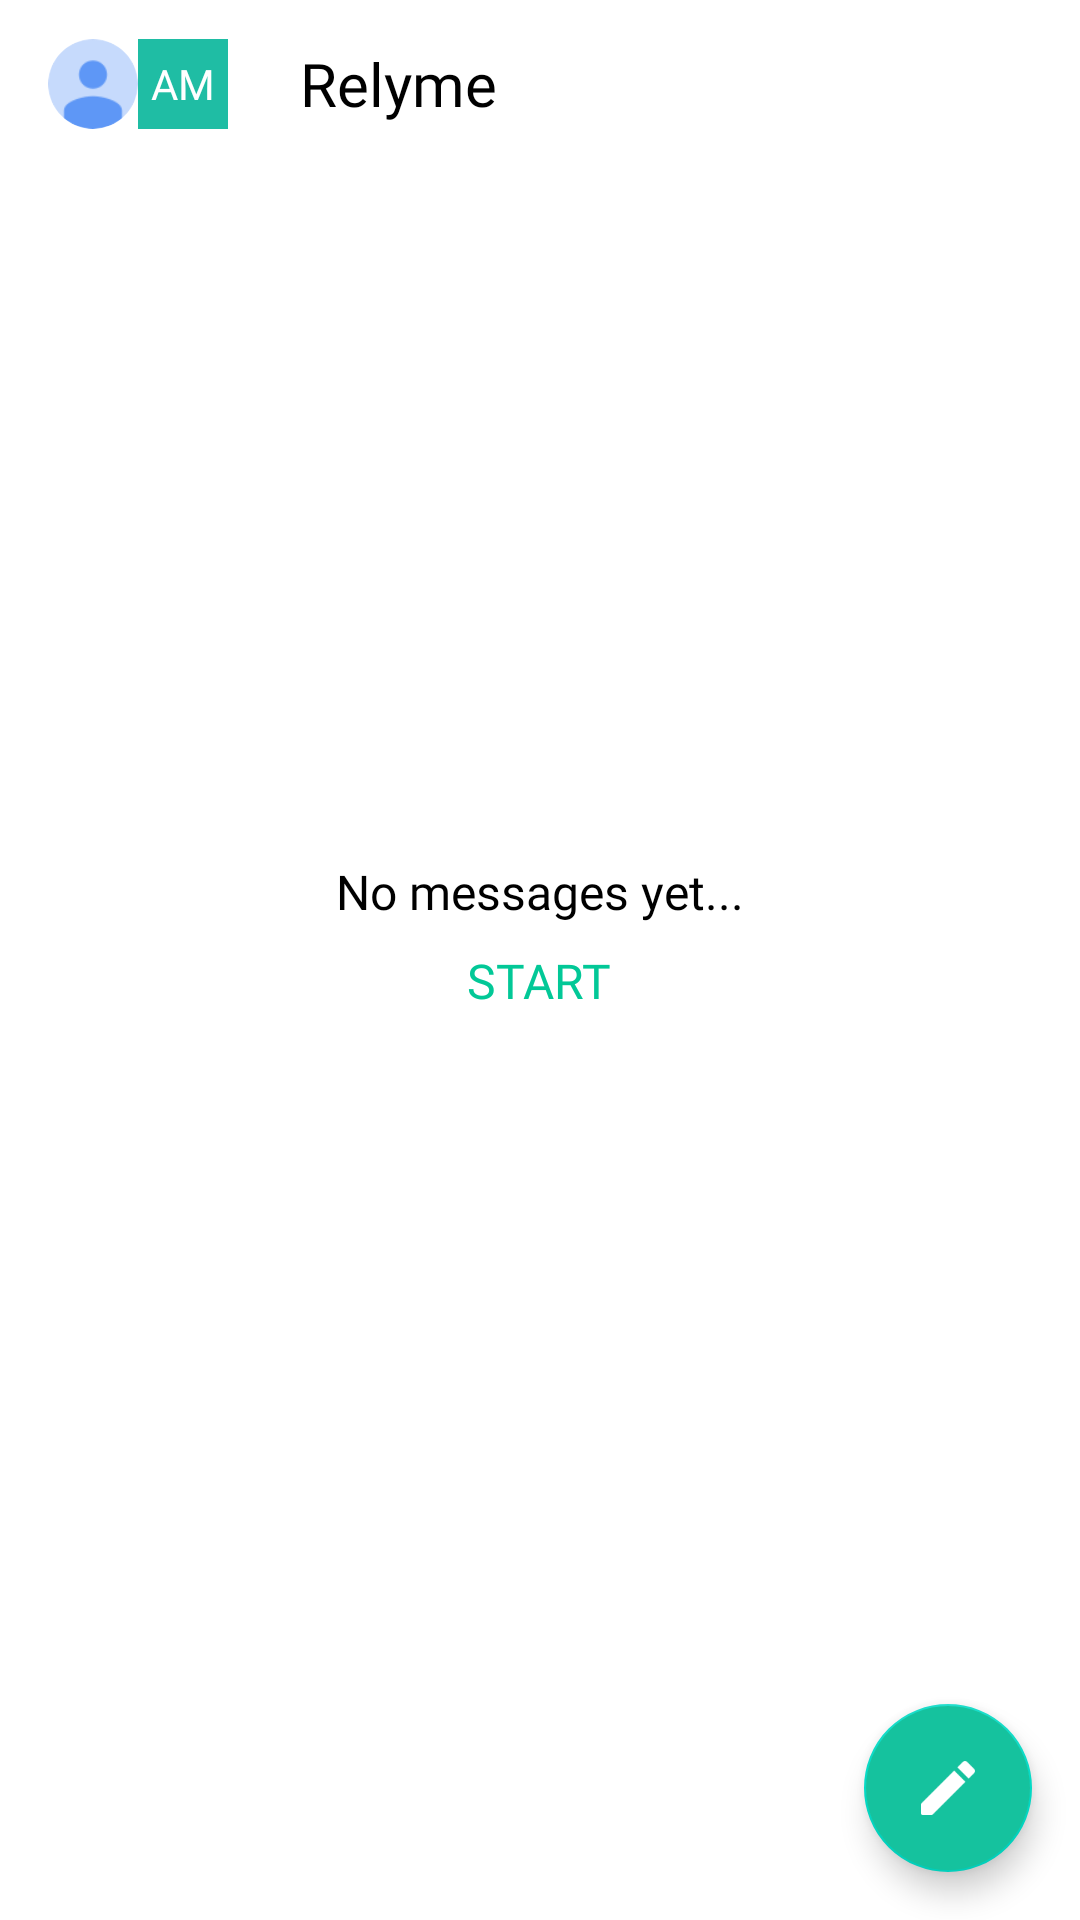

Screen size 1080×1920. Icon name, then its center in pixels as [x,y]:
pencil: [948,1788]
